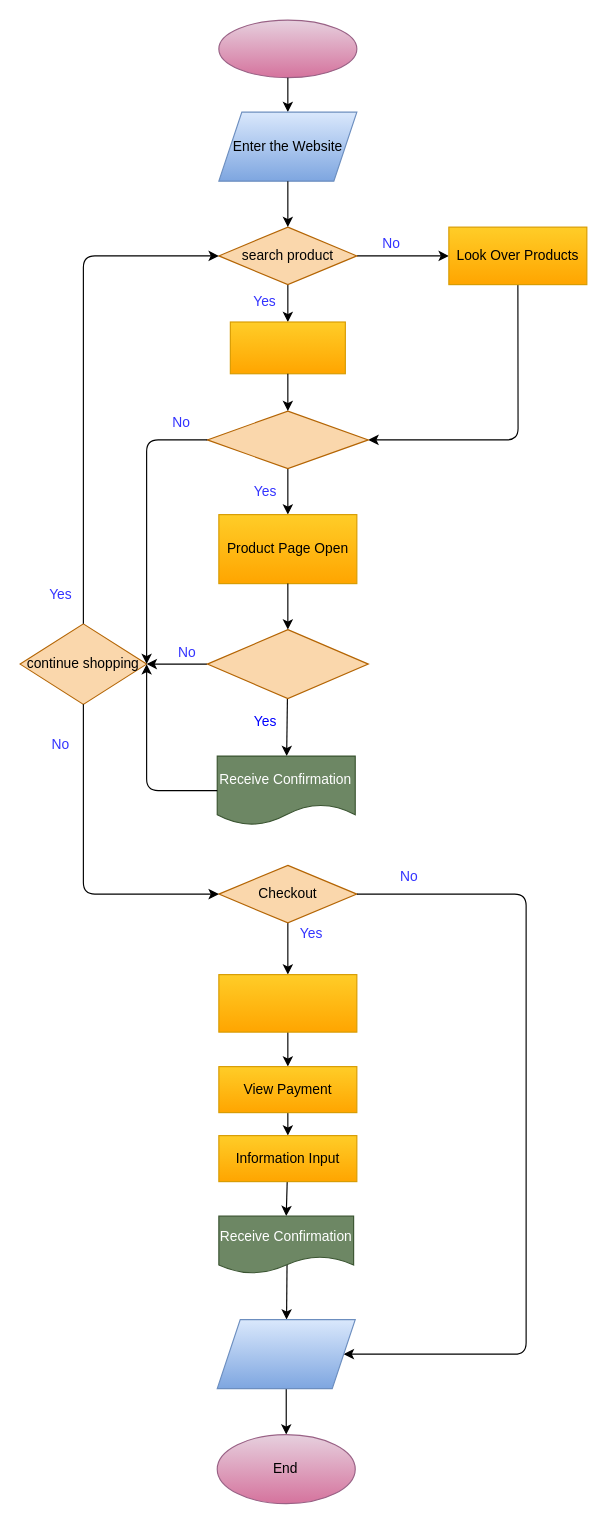
This 607x1524 diagram has some shape labels left out. The shapes that lost their labels are listed below. From the top down, each one's centre as x and y in pixels, then its label:
point (287, 48): Start
point (287, 347): Wait for Input
point (287, 439): View Specific Product
point (287, 663): Add To Cart
point (287, 1002): View Cart
point (285, 1353): Leave Website
